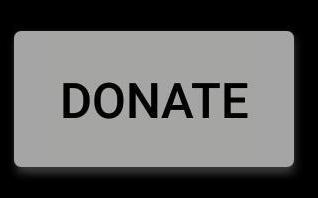Button: (1, 1, 317, 197)
